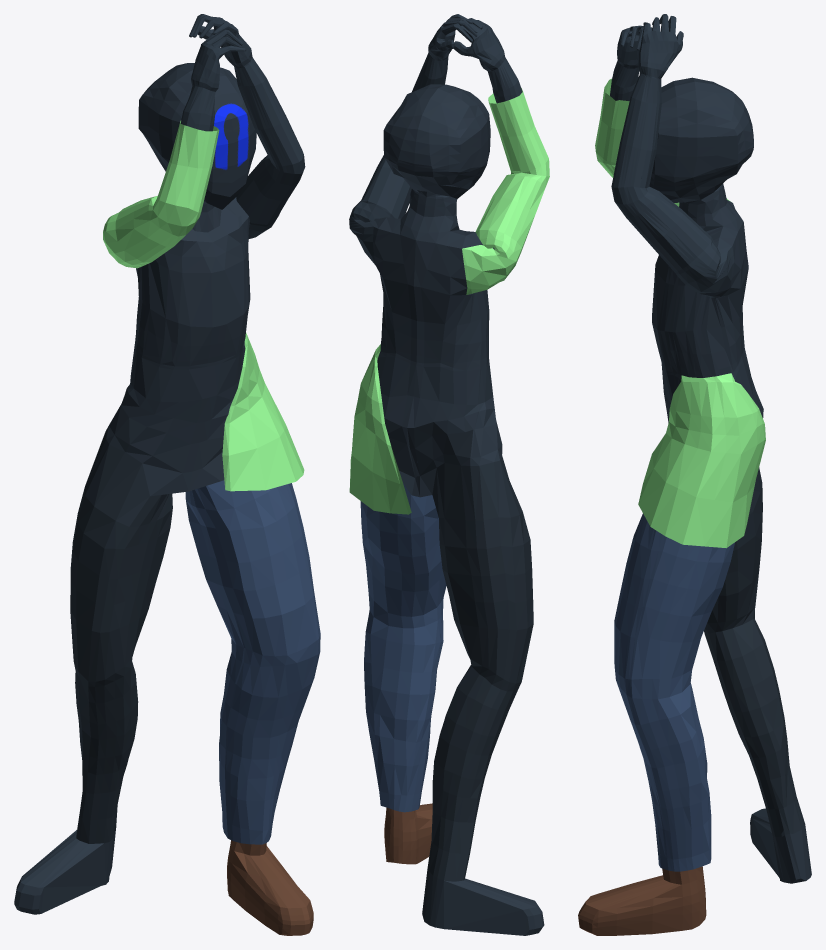
Rendered from Mar_Attack_000009.obj.
The picture shows the model from 3 angles, left to right: view 1: azimuth 30°, elevation 25°; view 2: azimuth 150°, elevation 25°; view 3: azimuth 270°, elevation 25°; orthographic projection. The views are drawn at different scales.
Parts seen in each view (by area): view 1: Cube.000_Cube.001; view 2: Cube.000_Cube.001; view 3: Cube.000_Cube.001.
Part boxes in pixels (x1,y1,x2,y2): Cube.000_Cube.001: (14, 14, 320, 935); Cube.000_Cube.001: (349, 14, 549, 935); Cube.000_Cube.001: (578, 14, 811, 935).
Size of the model in its own units: 1.2 by 4.18 by 0.9984.
